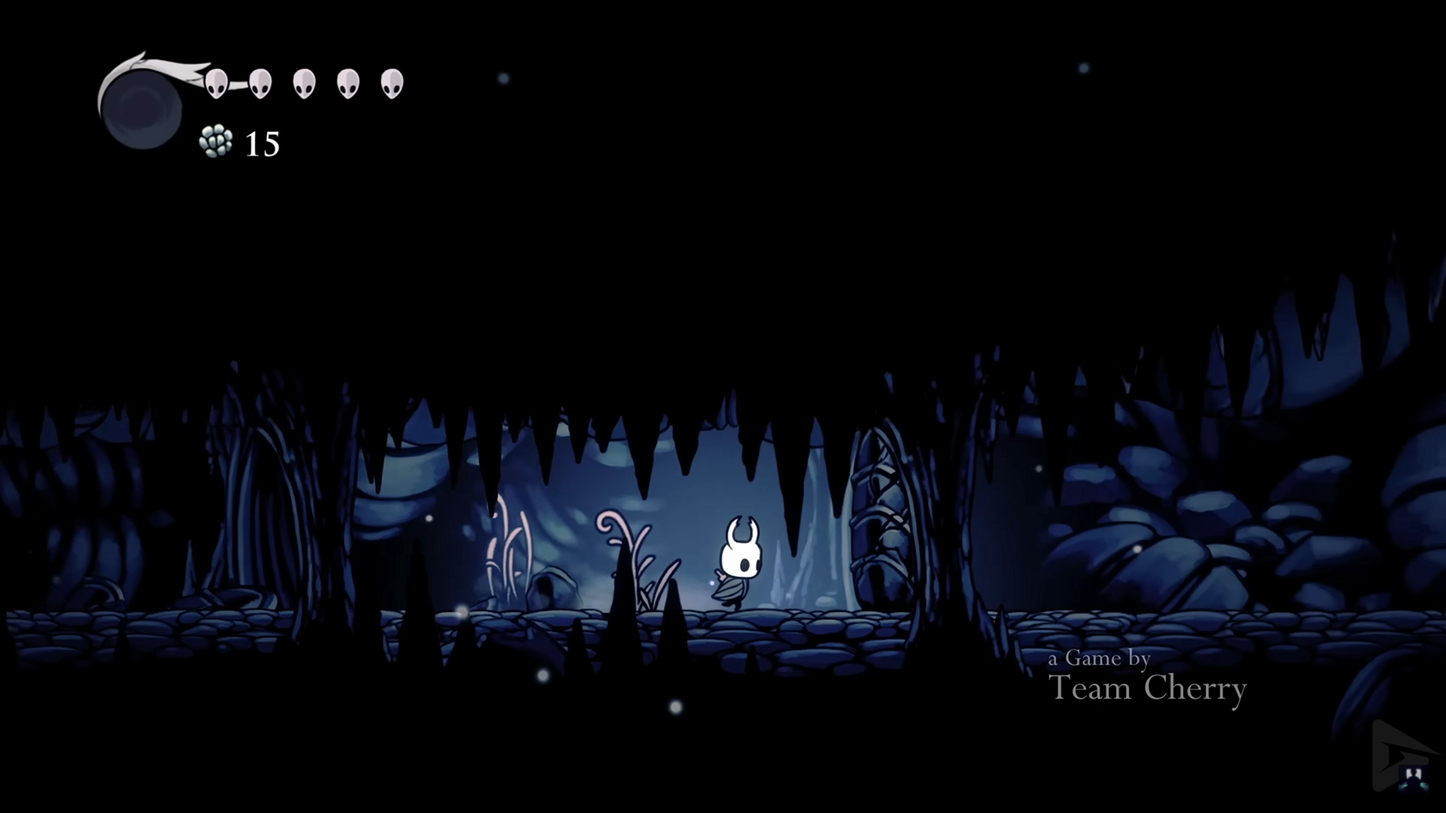HK: (712, 512, 767, 615)
